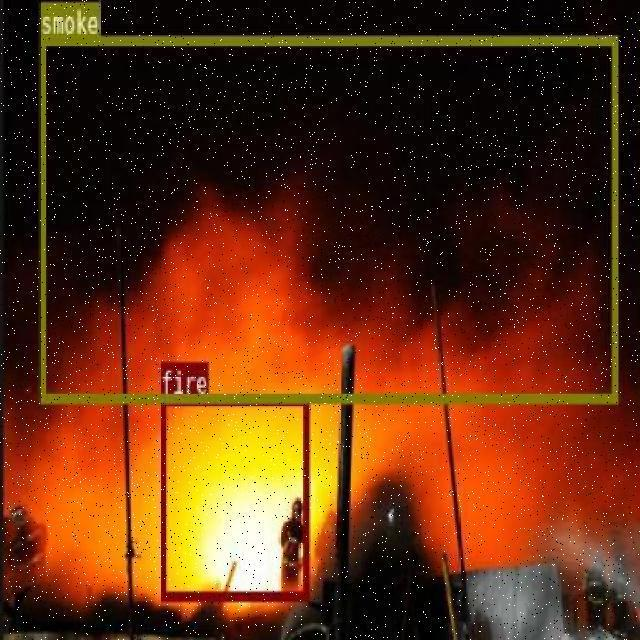Smoke: (39, 34, 616, 400)
